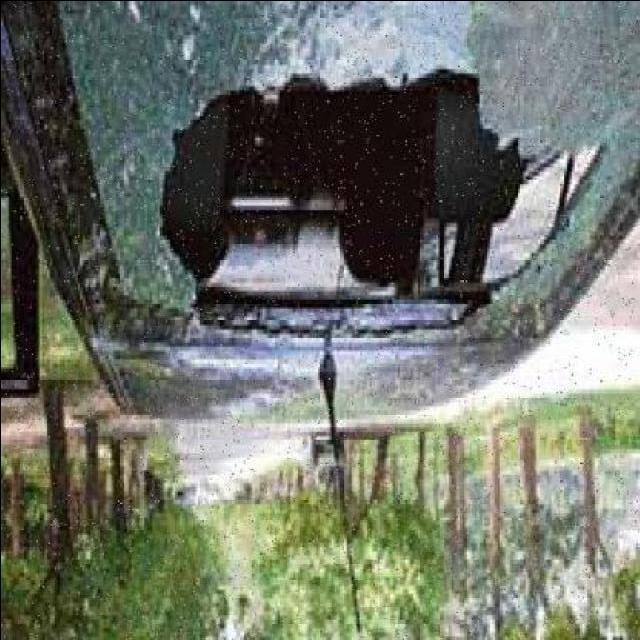Rear-windscreen-Damage: (2, 3, 640, 375)
